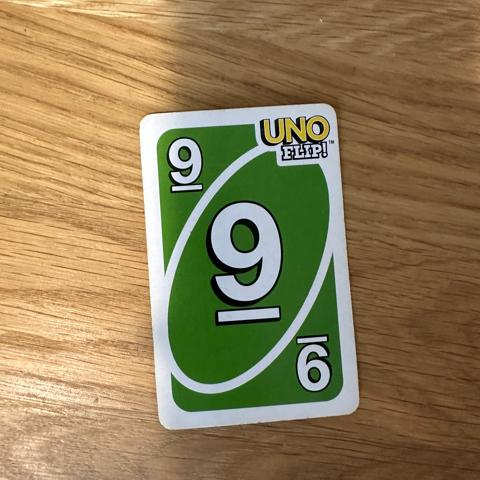lgreen-9: (149, 124, 220, 206)
